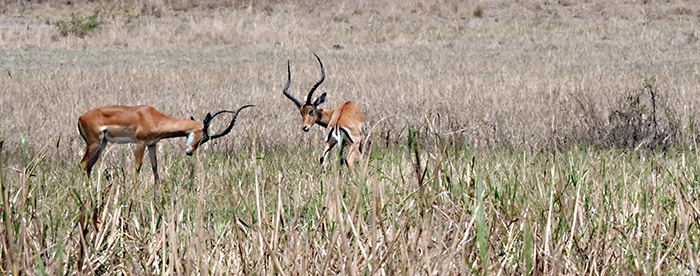impala: (71, 101, 257, 194), (281, 50, 372, 176)
